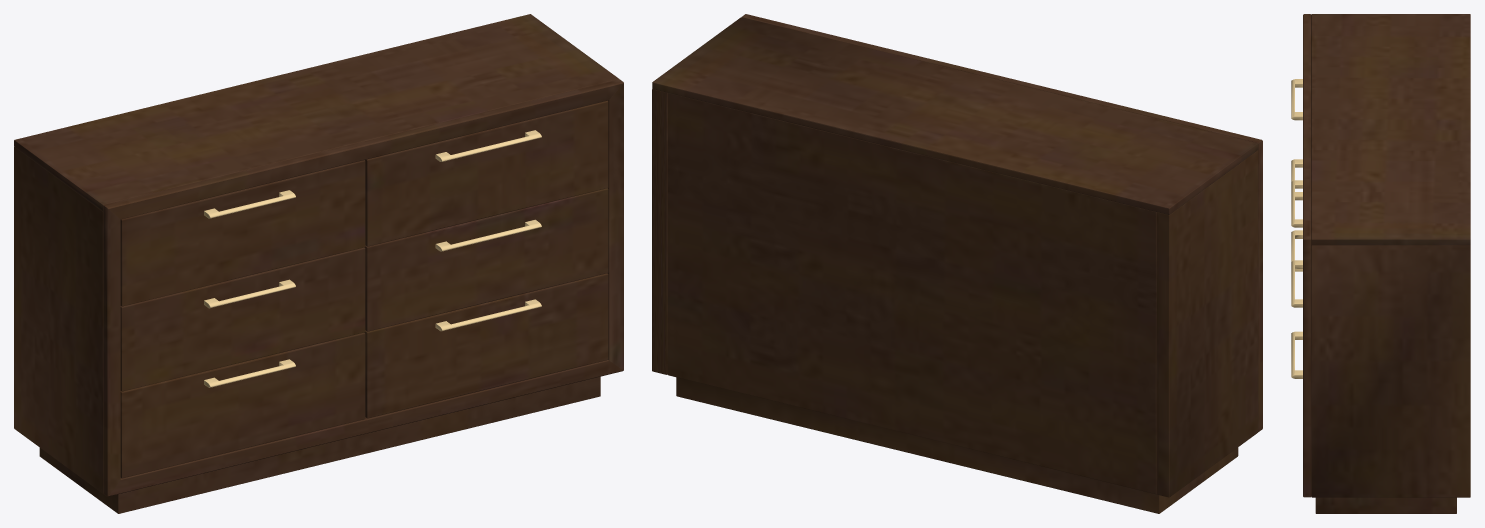
3 renders of one model, left to right at view 1: azimuth 30°, elevation 25°; view 2: azimuth 150°, elevation 25°; view 3: azimuth 270°, elevation 25°, orthographic. The views are drawn at different scales.
Parts seen in each view (by area): view 1: visual_RootNode; view 2: visual_RootNode; view 3: visual_RootNode.
Part boxes in pixels (<box>): visual_RootNode: <box>14,14,623,513</box>; visual_RootNode: <box>652,14,1262,513</box>; visual_RootNode: <box>1291,14,1470,513</box>.
Bounding box in the file's own units: 1.52 × 0.5124 × 0.8887.
1 material, 1 textured.
